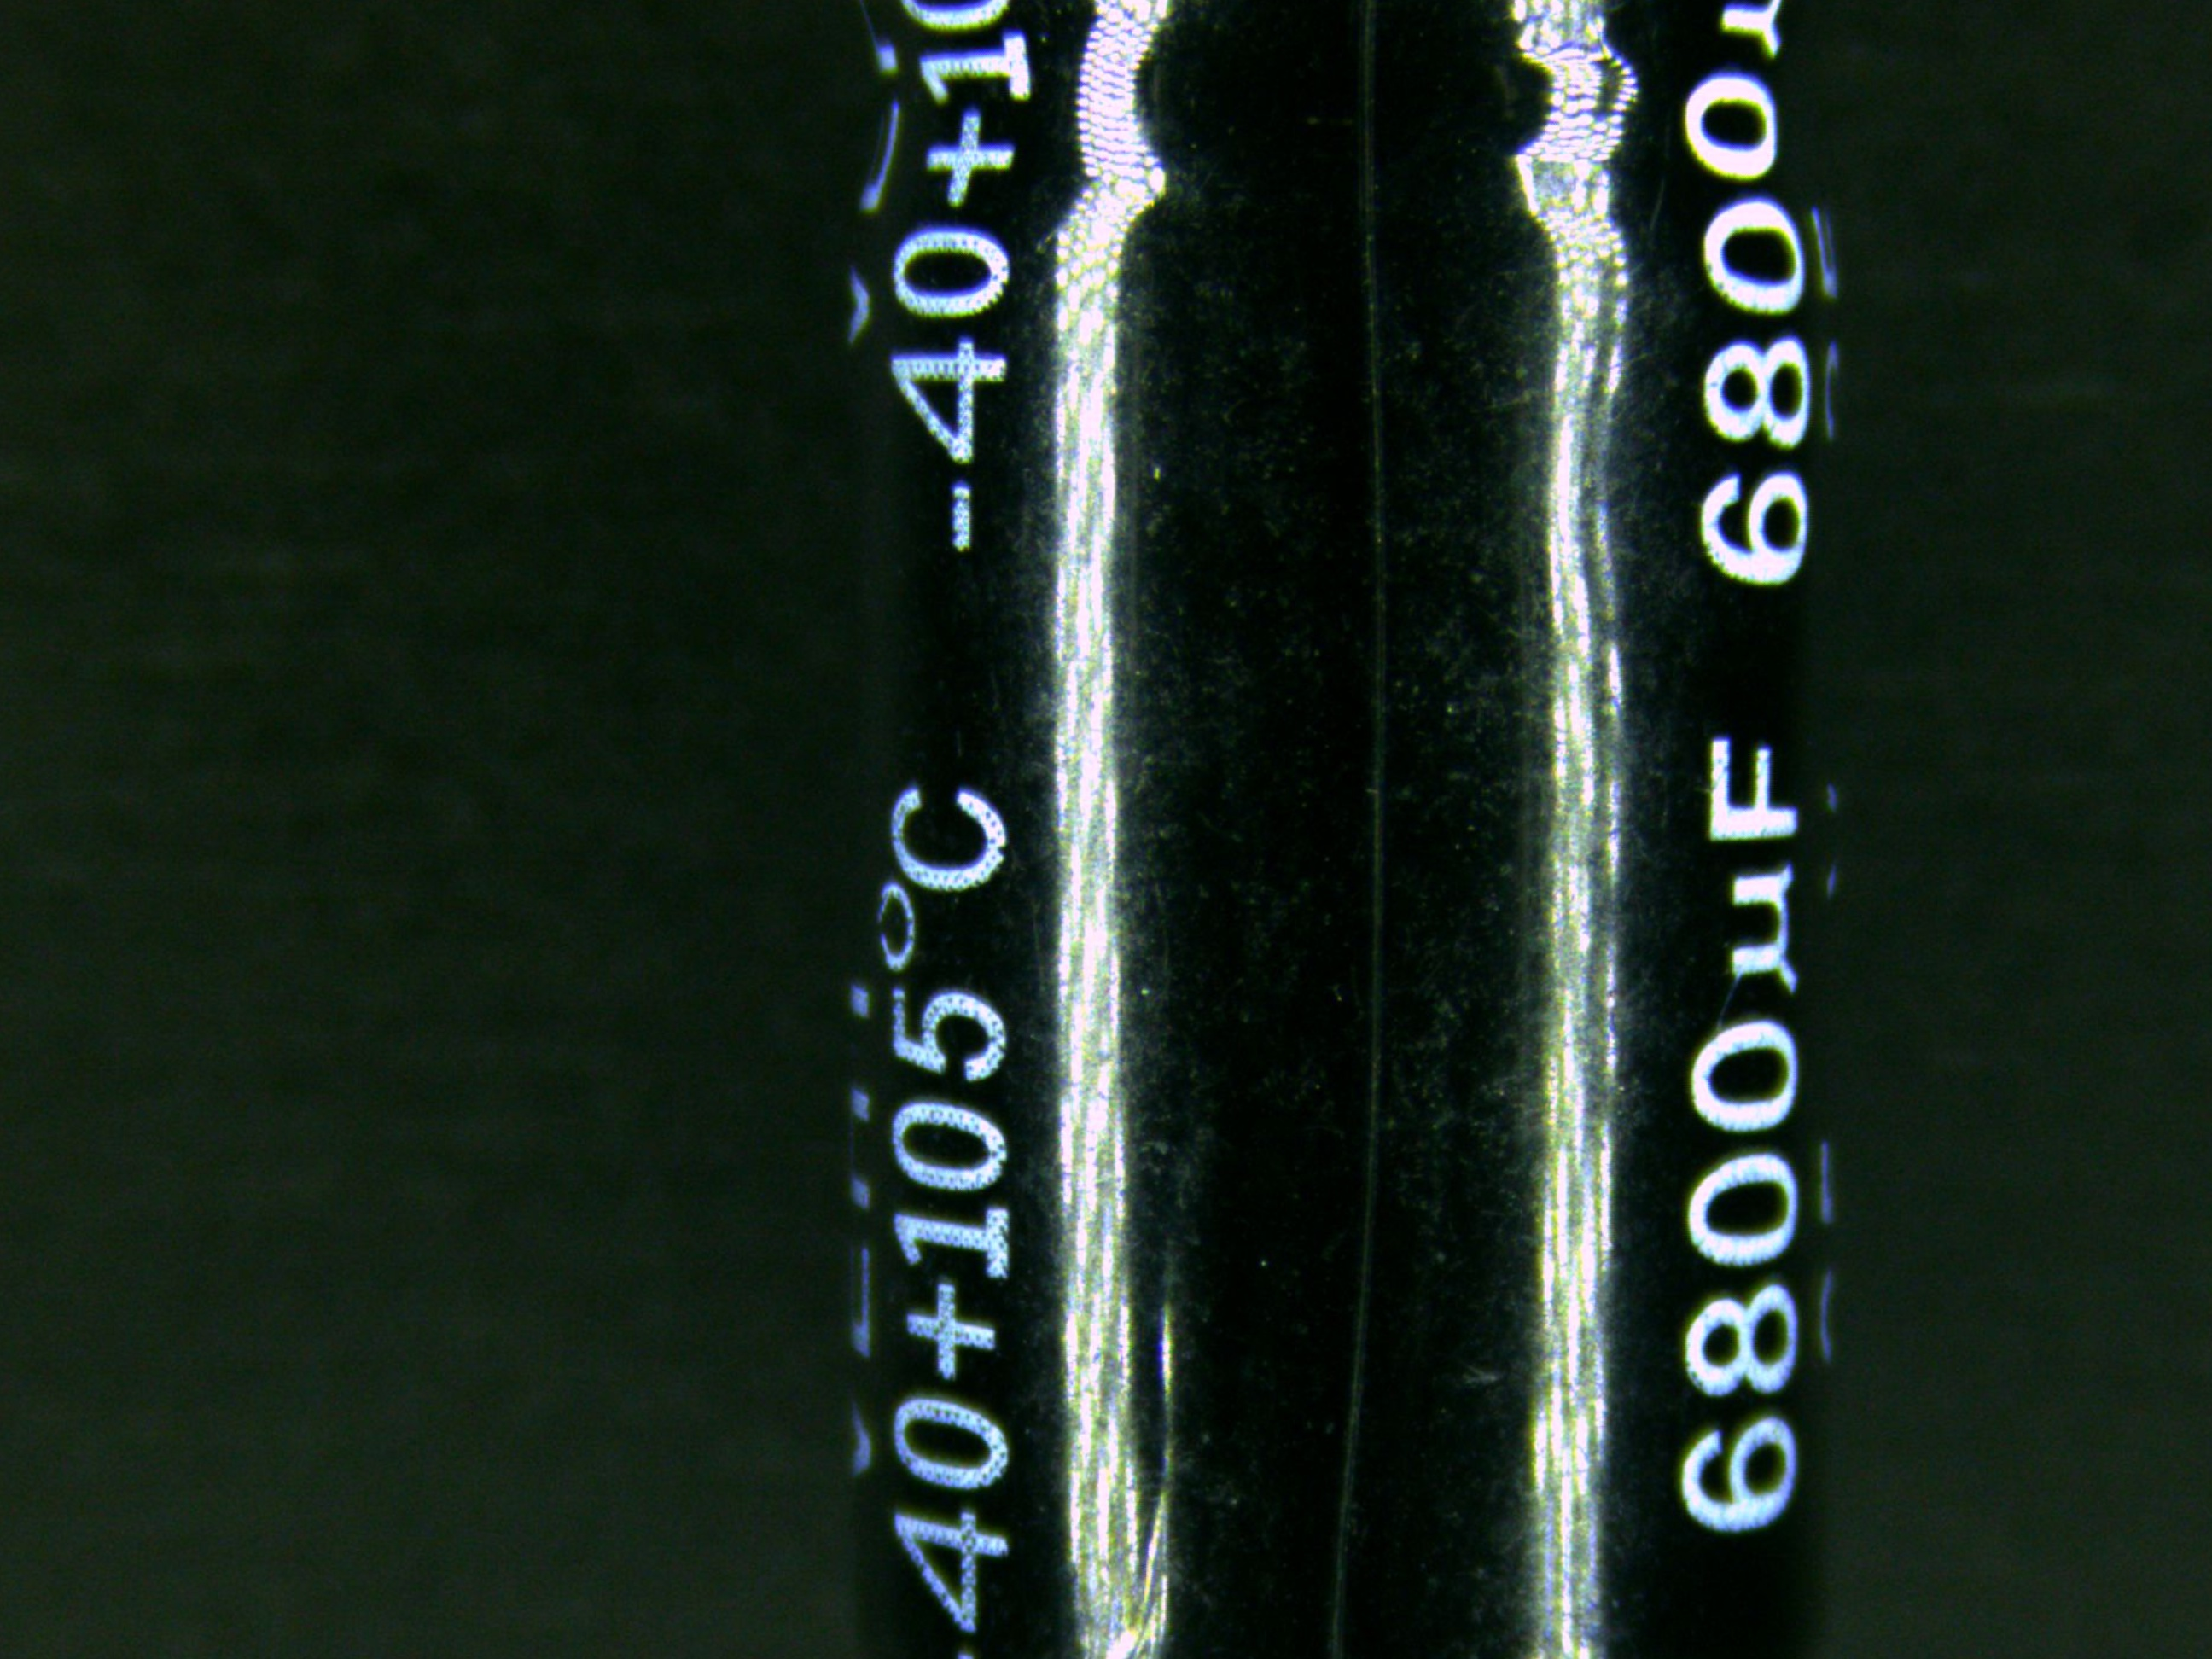c3: (831, 0, 1855, 1659)
